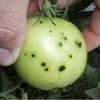tomato bacterial spot: (16, 14, 89, 92)
